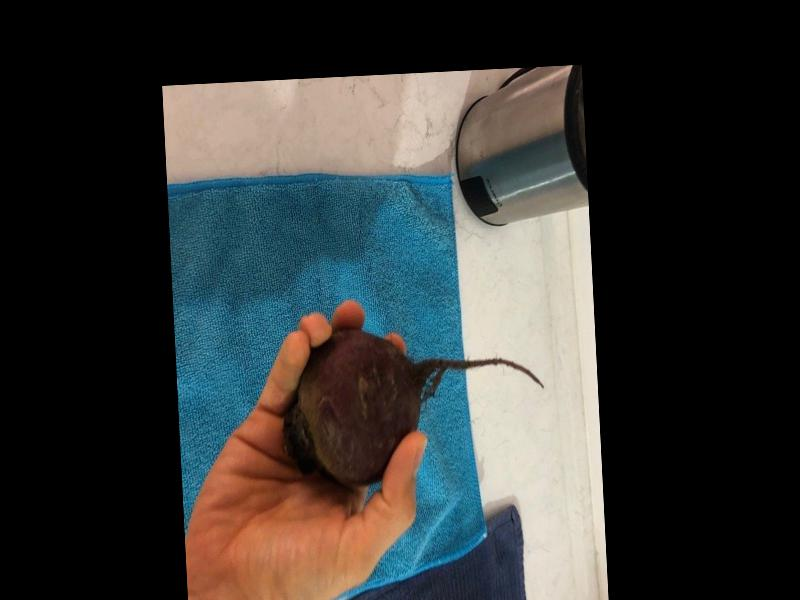Beet: (278, 318, 547, 490)
